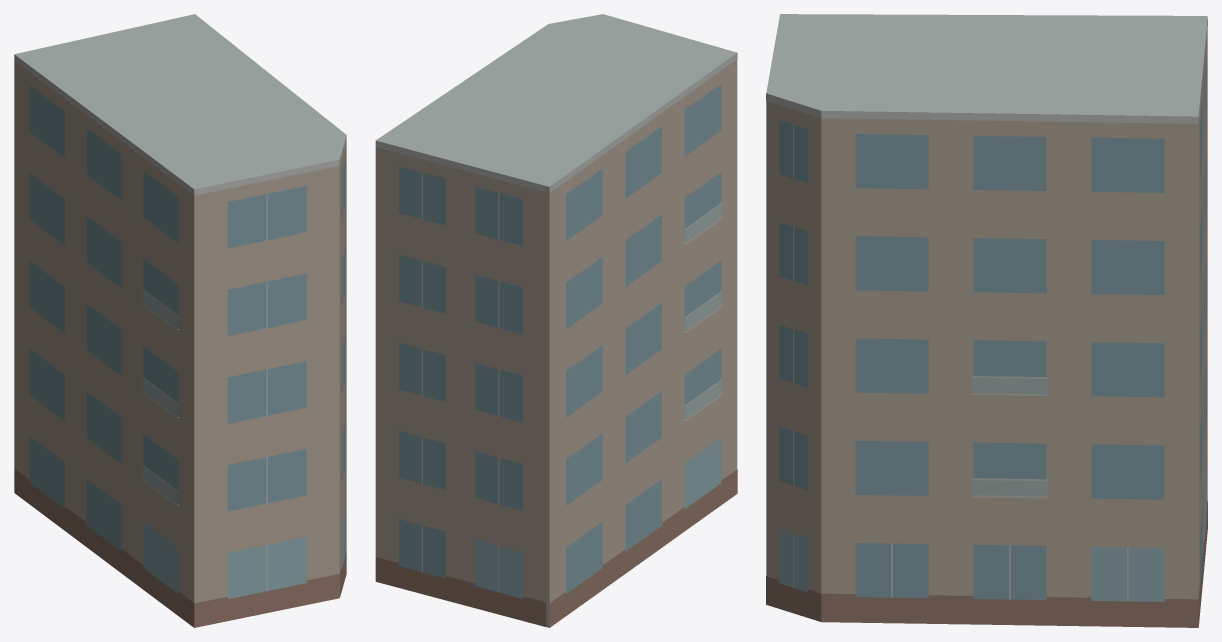
The model's file is survey-upis-32997947.glb.
3 views of the same model, side by side, from view 1: azimuth 30°, elevation 25°; view 2: azimuth 150°, elevation 25°; view 3: azimuth 270°, elevation 25° (orthographic). The views are drawn at different scales.
Parts seen in each view (by area): view 1: survey-upis-32997947.tmp; view 2: survey-upis-32997947.tmp; view 3: survey-upis-32997947.tmp.
Boxes of the visible parts, x1,y1,x2,y2 form: survey-upis-32997947.tmp: [14, 14, 346, 627]; survey-upis-32997947.tmp: [375, 14, 737, 627]; survey-upis-32997947.tmp: [766, 14, 1207, 627].
Bounding box in the file's own units: 7.33 × 16.97 × 13.29.
